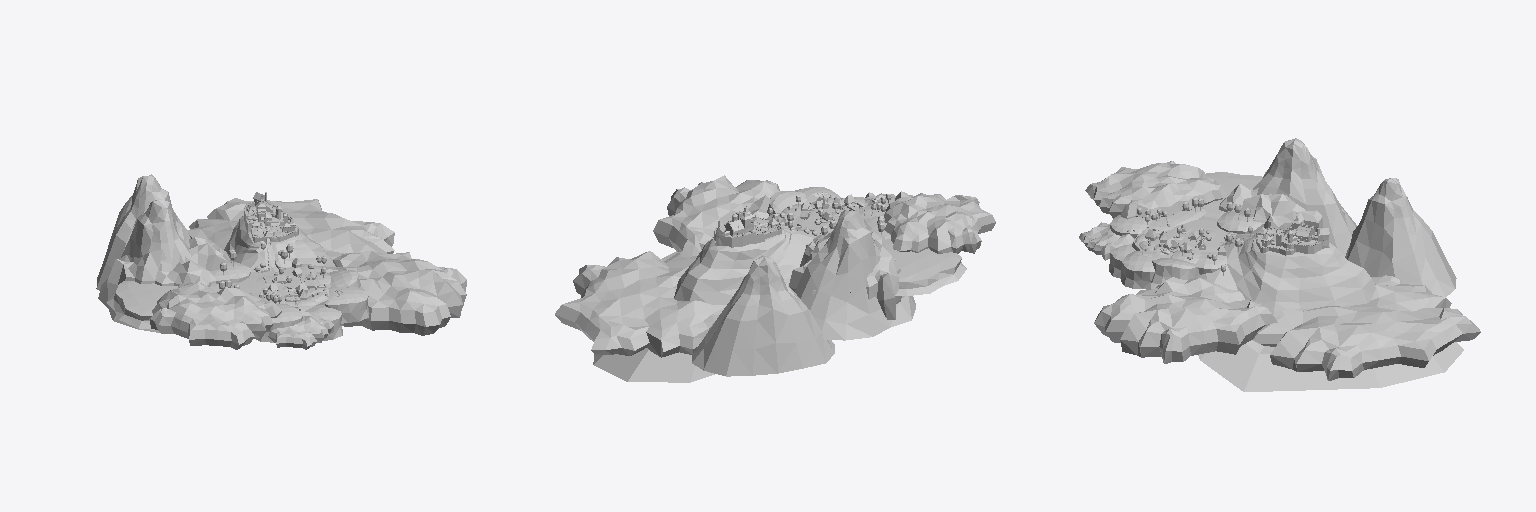
The model's file is castle.obj.
3 renders of one model, left to right at view 1: azimuth 30°, elevation 25°; view 2: azimuth 150°, elevation 25°; view 3: azimuth 270°, elevation 25°, orthographic.
Bounding box in the file's own units: 154 × 65.02 × 164.